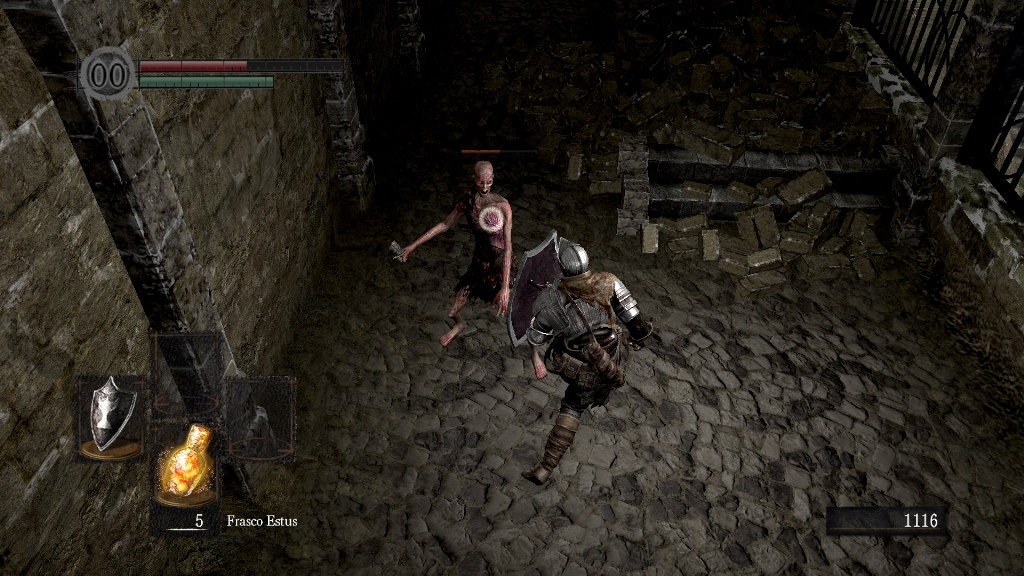health: (138, 58, 343, 71)
hollow: (391, 161, 548, 376)
humanity: (80, 45, 136, 102)
player: (506, 231, 658, 489)
souls: (825, 506, 945, 536)
stamina: (138, 74, 274, 88)
